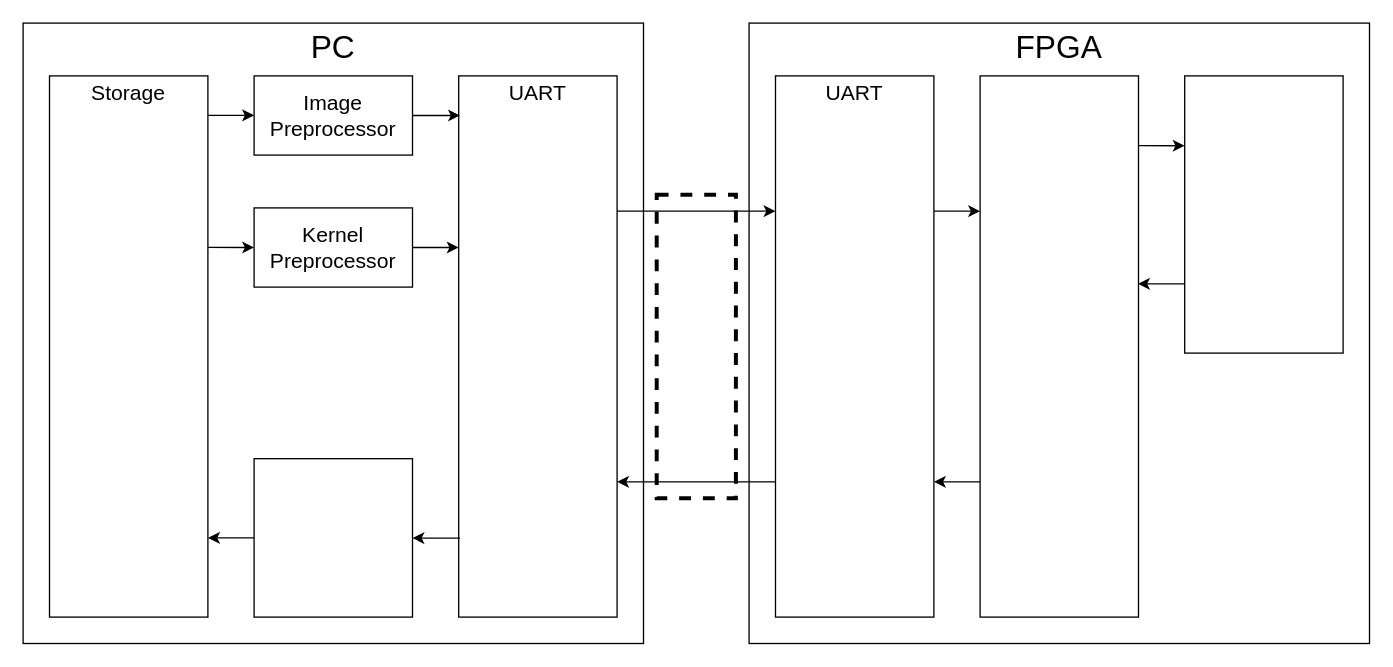
The diagram is 1393 pixels wide and 667 high, and some of its shapes have lost their labels. Here are the shapes that lost their labels. From the top down, the centre of each, then its label:
(x=1263, y=214): ILB
(x=695, y=346): U S B
(x=1058, y=346): SoPU
(x=332, y=537): Present Data
